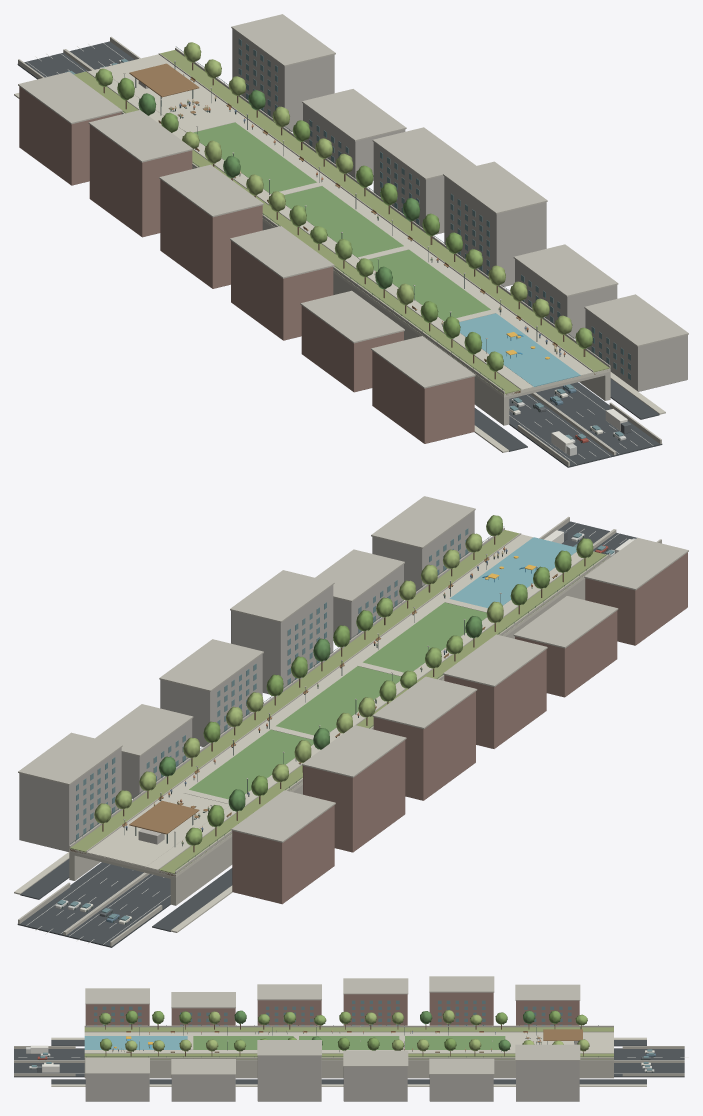
Rendered from deegan-garden-deck.glb.
The picture shows the model from 3 angles, top to bottom: view 1: azimuth 30°, elevation 25°; view 2: azimuth 150°, elevation 25°; view 3: azimuth 270°, elevation 25°; orthographic projection. The views are drawn at different scales.
Parts seen in each view (by area): view 1: Six-lane roadway, Context building.004, Context building.003, Context building, Context building.008, Context building.002, Context building.011, Context building.005, Context building.006, Context building.001, Building roof coping.007, Building roof coping (+17 smaller); view 2: Six-lane roadway, Context building.005, Context building.004, Context building.011, Context building.003, Context building.008, Context building, Context building.002, Context building.001, Context building.009, Building roof coping.001, Building roof coping.002 (+16 smaller); view 3: Six-lane roadway, Context building.008, Context building.011, Context building.009, Context building.006, Context building.010, Context building.004, Context building.007, Context building.003, Illustrative adjacent street.001, Context building.002, Context building.005 (+26 smaller).
Part boxes in pixels (bbox=[...]): Six-lane roadway: bbox=[17, 41, 662, 467]; Context building.004: bbox=[89, 125, 192, 237]; Context building.003: bbox=[160, 179, 262, 288]; Context building: bbox=[372, 351, 474, 443]; Context building.008: bbox=[444, 176, 546, 286]; Context building.002: bbox=[231, 241, 333, 340]; Context building.011: bbox=[232, 29, 334, 131]; Context building.005: bbox=[19, 86, 121, 185]; Context building.006: bbox=[585, 309, 687, 391]; Context building.001: bbox=[301, 306, 403, 392]; Building roof coping.007: bbox=[513, 244, 618, 296]; Building roof coping: bbox=[371, 336, 475, 388]; Six-lane roadway: bbox=[17, 521, 636, 947]; Context building.005: bbox=[232, 805, 334, 904]; Context building.004: bbox=[303, 740, 405, 852]; Context building.011: bbox=[19, 747, 121, 851]; Context building.003: bbox=[373, 691, 475, 800]; Context building.008: bbox=[231, 585, 333, 694]; Context building: bbox=[585, 552, 687, 645]; Context building.002: bbox=[444, 649, 546, 748]; Context building.001: bbox=[515, 611, 617, 697]; Context building.009: bbox=[160, 654, 262, 747]; Building roof coping.001: bbox=[513, 596, 618, 648]; Building roof coping.002: bbox=[443, 634, 547, 687]; Six-lane roadway: bbox=[14, 1048, 684, 1077]; Context building.008: bbox=[257, 1056, 321, 1101]; Context building.011: bbox=[516, 1060, 579, 1101]; Context building.009: bbox=[343, 1066, 407, 1101]; Context building.006: bbox=[85, 1074, 149, 1101]; Context building.010: bbox=[429, 1074, 493, 1101]; Context building.004: bbox=[429, 992, 493, 1025]; Context building.007: bbox=[171, 1075, 235, 1101]; Context building.003: bbox=[343, 994, 407, 1025]; Illustrative adjacent street.001: bbox=[51, 1079, 646, 1084]; Context building.002: bbox=[257, 1000, 321, 1025]; Context building.005: bbox=[516, 1000, 579, 1025].
Size of the model in its own units: 84.4 by 23.7 by 306.
